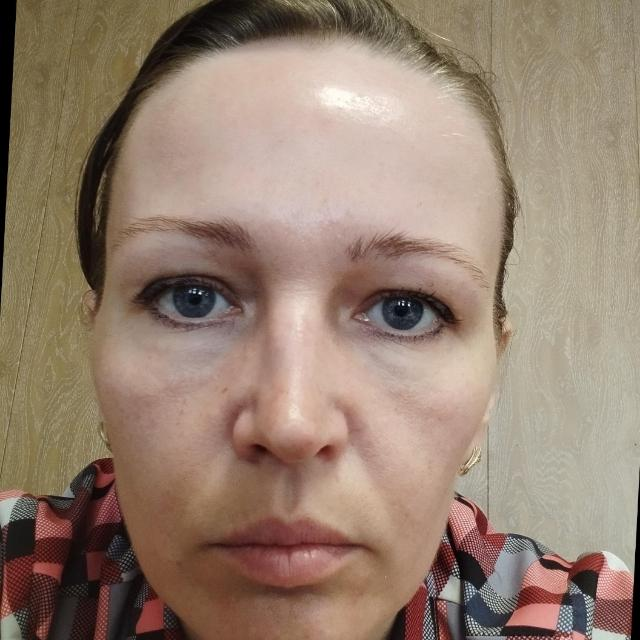Natural: (59, 92, 556, 640)
